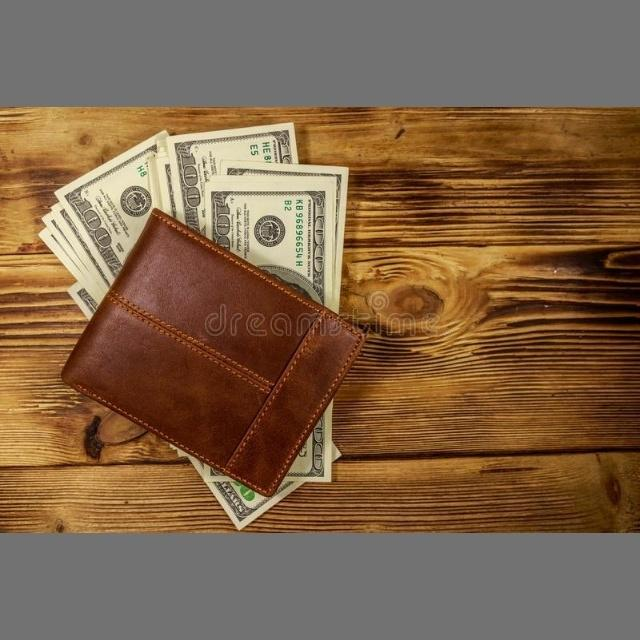Wallet: (56, 195, 418, 491)
